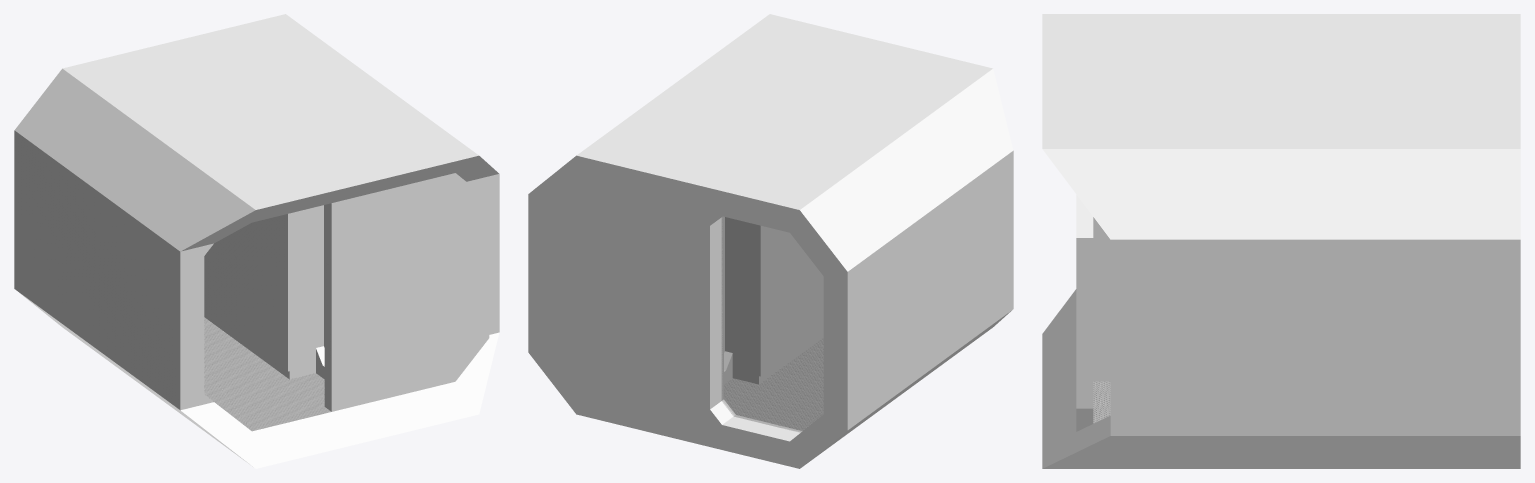
Rendered from ARKHA_SanitaryBay_L2_V1.glb.
3 views of the same model, side by side, from view 1: azimuth 30°, elevation 25°; view 2: azimuth 150°, elevation 25°; view 3: azimuth 270°, elevation 25° (orthographic). The views are drawn at different scales.
Parts seen in each view (by area): view 1: 29672, 35805; view 2: 29672, 33458, 35805; view 3: 29672, 35805, 35181.
Part boxes in pixels (x1,y1,x2,y2): 29672: (14, 14, 499, 468); 35805: (204, 173, 489, 411); 29672: (528, 14, 1013, 468); 33458: (722, 217, 823, 431); 35805: (724, 217, 823, 384); 29672: (1042, 14, 1520, 468); 35805: (1076, 194, 1110, 431); 35181: (1093, 217, 1110, 365).
Size of the model in its own units: 4 by 3.1 by 4.2.
815 materials, 1 textured.
